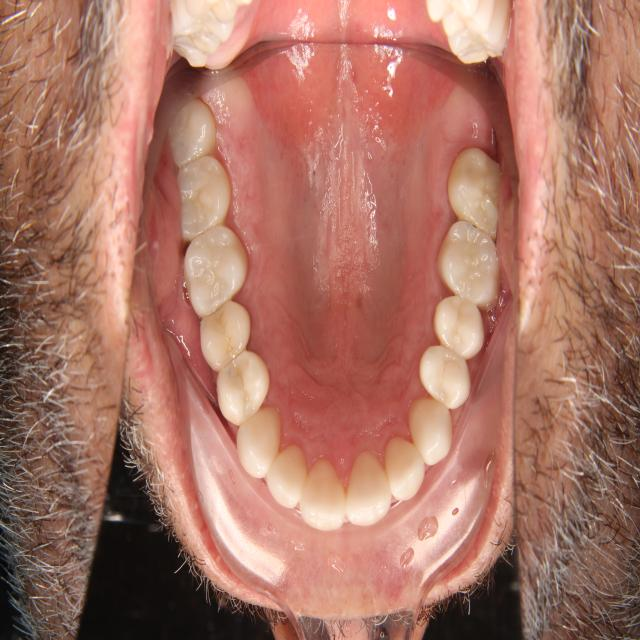tooth: (173, 216, 261, 330), (165, 148, 247, 256), (440, 139, 511, 248), (434, 214, 511, 312), (233, 398, 297, 511), (290, 435, 354, 546), (210, 348, 282, 440), (191, 293, 261, 380), (338, 448, 399, 539), (410, 339, 481, 416), (429, 285, 494, 365), (160, 94, 224, 173), (401, 390, 459, 473), (380, 426, 434, 514), (261, 434, 311, 528)
